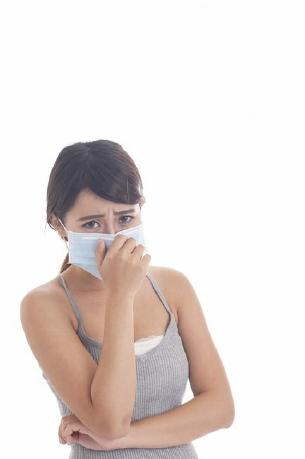face_mask: (68, 189, 142, 282)
